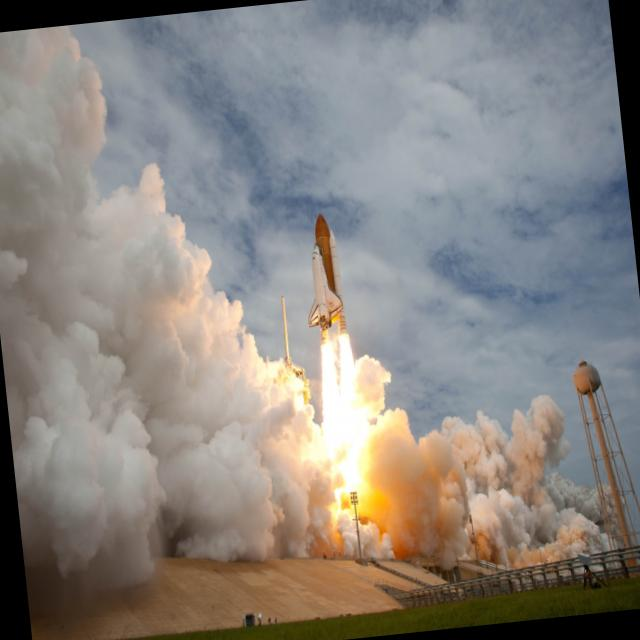rocket: (302, 218, 359, 438)
